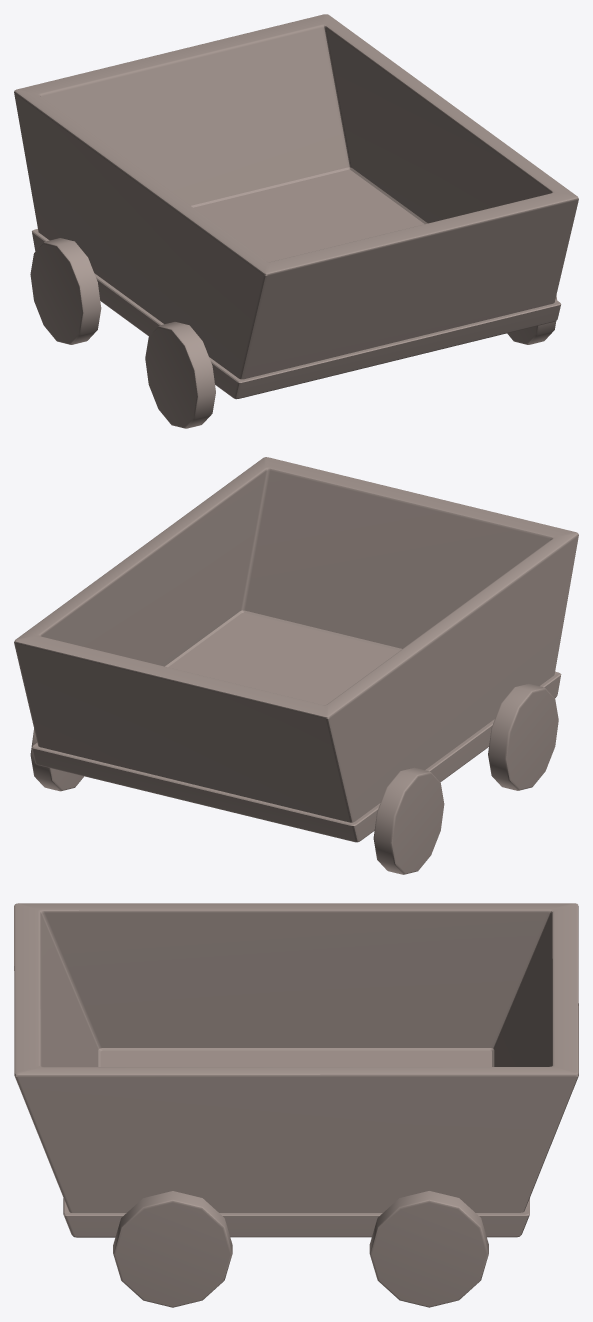
The model's file is carrinho.fbx.
The picture shows the model from 3 angles, top to bottom: view 1: azimuth 30°, elevation 25°; view 2: azimuth 150°, elevation 25°; view 3: azimuth 270°, elevation 25°; orthographic projection. The views are drawn at different scales.
Visible parts, largest first — view 1: Carrinho; view 2: Carrinho; view 3: Carrinho.
Part boxes in pixels (bbox=[...]): Carrinho: bbox=[14, 14, 578, 428]; Carrinho: bbox=[14, 457, 578, 874]; Carrinho: bbox=[14, 903, 578, 1307].
Size of the model in its own units: 198 by 104 by 239.
